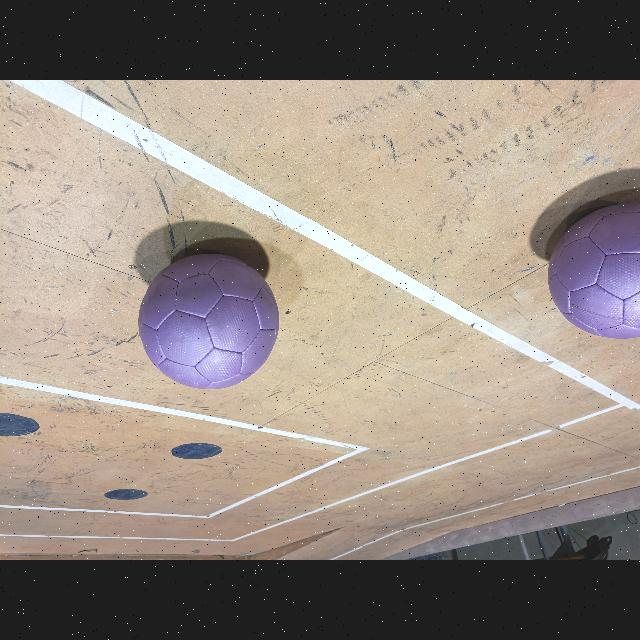P: (139, 255, 279, 390), (548, 203, 640, 339)
